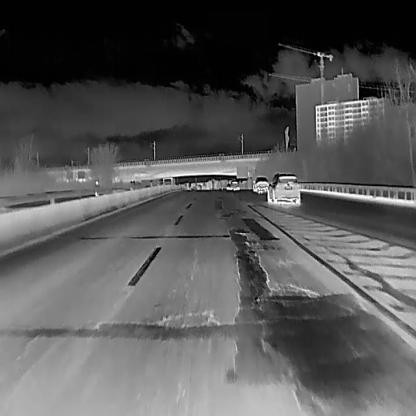car: (264, 172, 300, 204), (252, 176, 270, 192), (230, 180, 240, 190)
truck: (162, 176, 174, 188)
